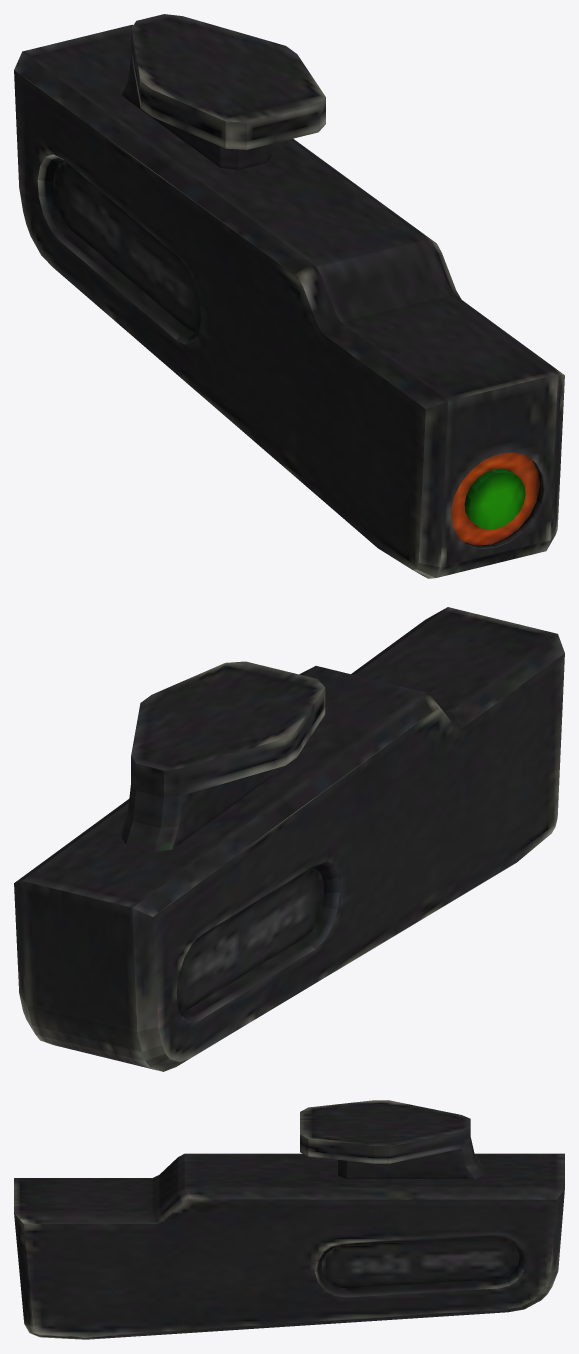
3 views of the same model, one above another, from view 1: azimuth 30°, elevation 25°; view 2: azimuth 150°, elevation 25°; view 3: azimuth 270°, elevation 25° (orthographic). The views are drawn at different scales.
Parts seen in each view (by area): view 1: TW_5a7d90eb159bd400165484f1_PZ_Import; view 2: TW_5a7d90eb159bd400165484f1_PZ_Import; view 3: TW_5a7d90eb159bd400165484f1_PZ_Import.
Part boxes in pixels (x1,y1,x2,y2): TW_5a7d90eb159bd400165484f1_PZ_Import: [14, 14, 564, 578]; TW_5a7d90eb159bd400165484f1_PZ_Import: [14, 607, 564, 1071]; TW_5a7d90eb159bd400165484f1_PZ_Import: [14, 1100, 564, 1339].
Size of the model in its own units: 0.00184 by 0.00935 by 0.00373.
1 material, 1 textured.
